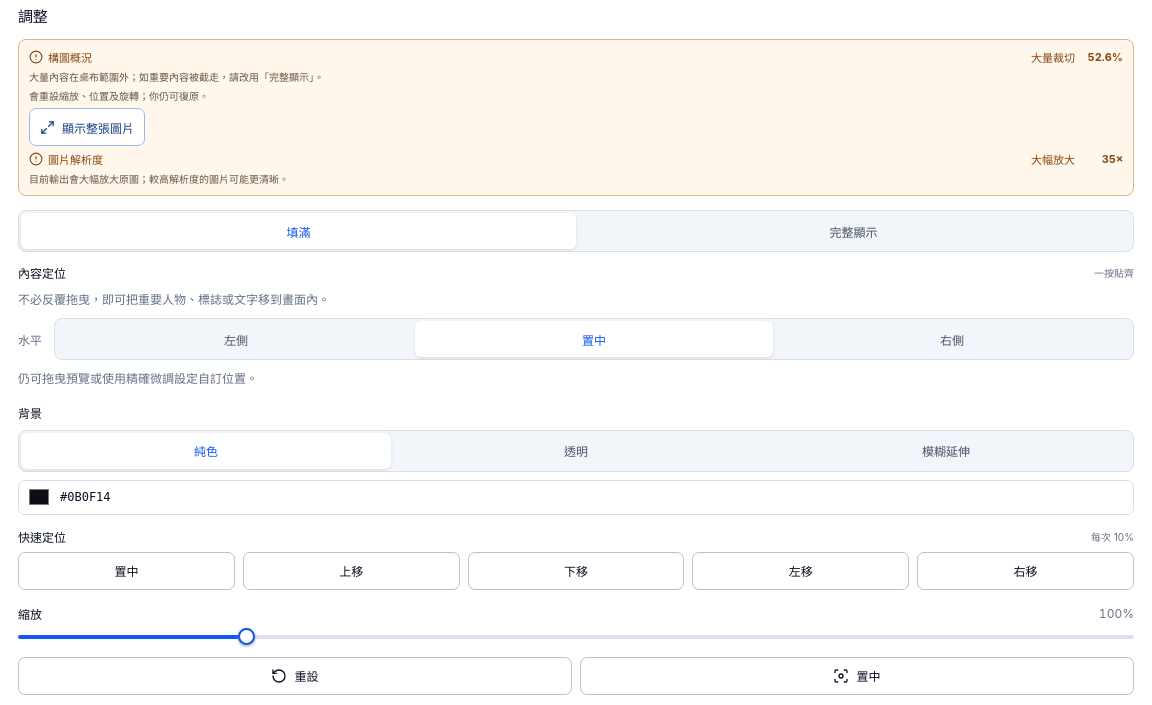
Test: editor controls › offers coarse positioning without requiring numeric fields
The width and height of the screenshot is (1152, 705).
Click the button with aria-label "將圖片向右移動 10%" at (1026, 571), box [917, 552, 1134, 590]
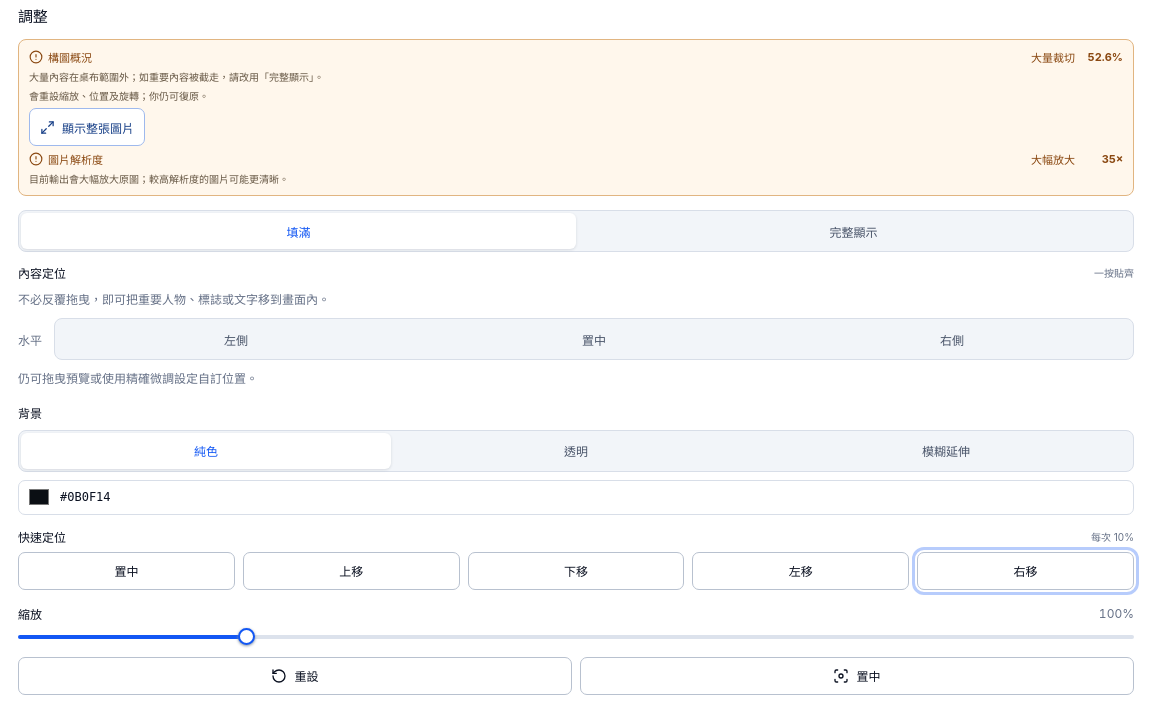
Click the button with aria-label "將圖片向上移動 10%" at (351, 571), box [243, 552, 460, 590]
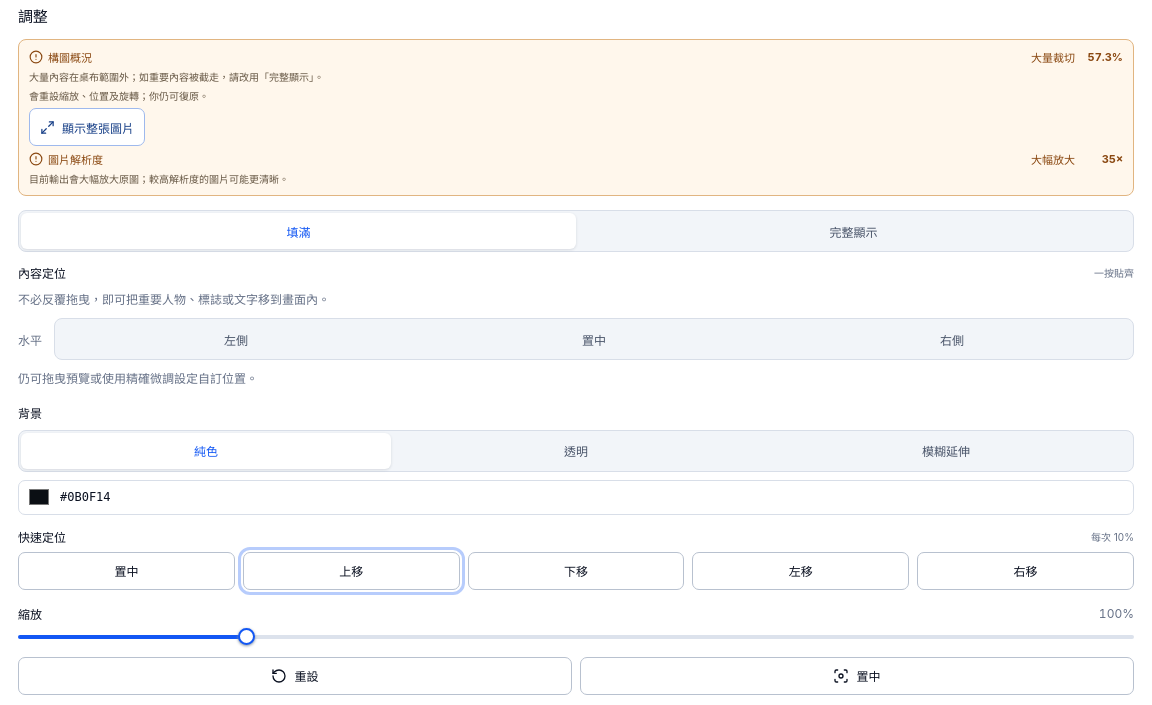
Click the button with aria-label "置中圖片" at (126, 571), box [18, 552, 235, 590]
(page scrolled)
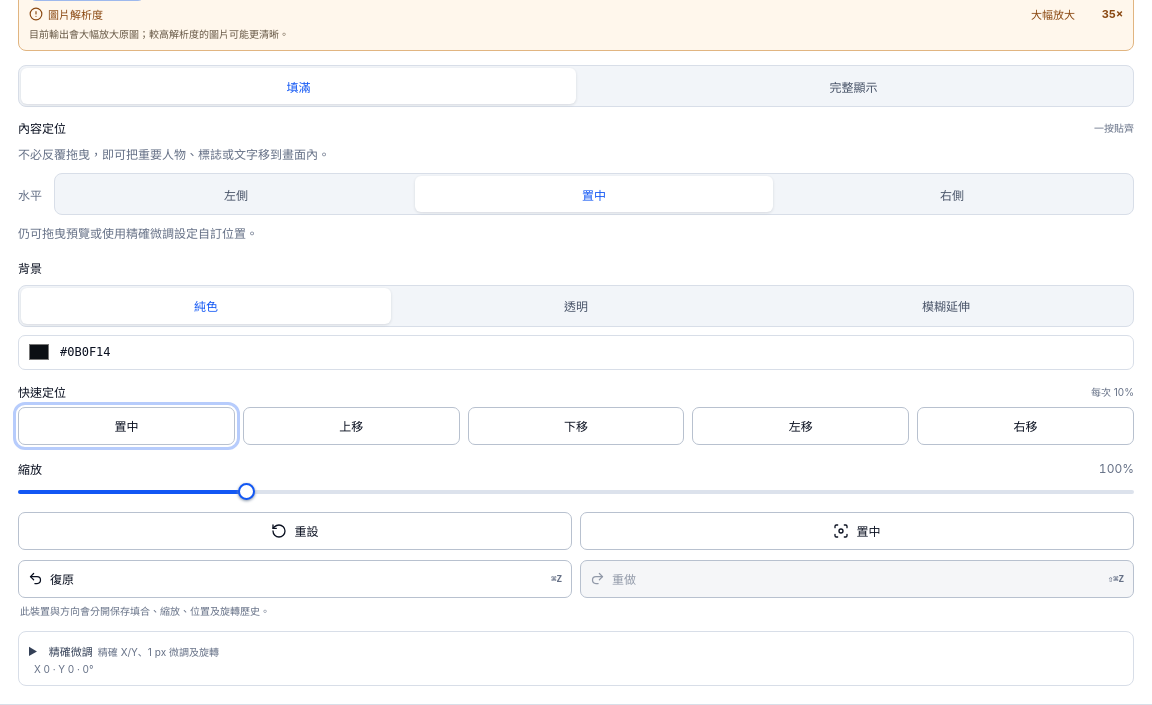
Check: the button with aria-label "復原上一次構圖變更" is enabled, box [18, 560, 572, 598]
Check: the text named "目前精確數值" reads "X 0 · Y 0 · 0°", box [34, 663, 94, 675]
